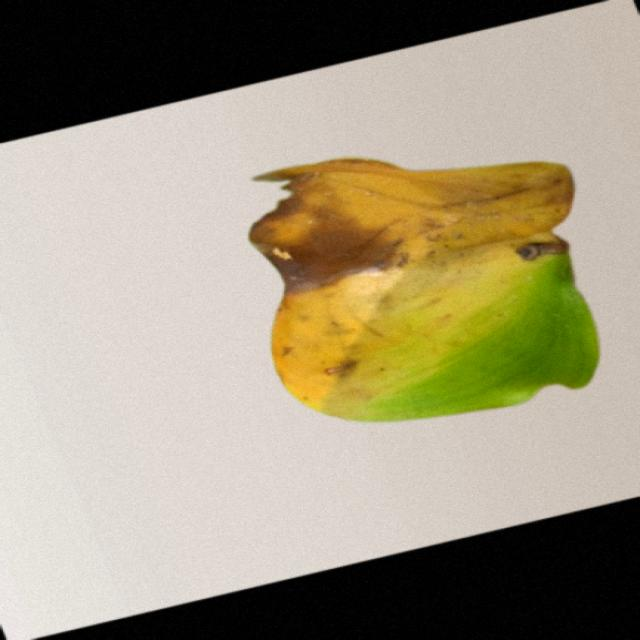daun berpenyakit kuning: (249, 158, 600, 422)
